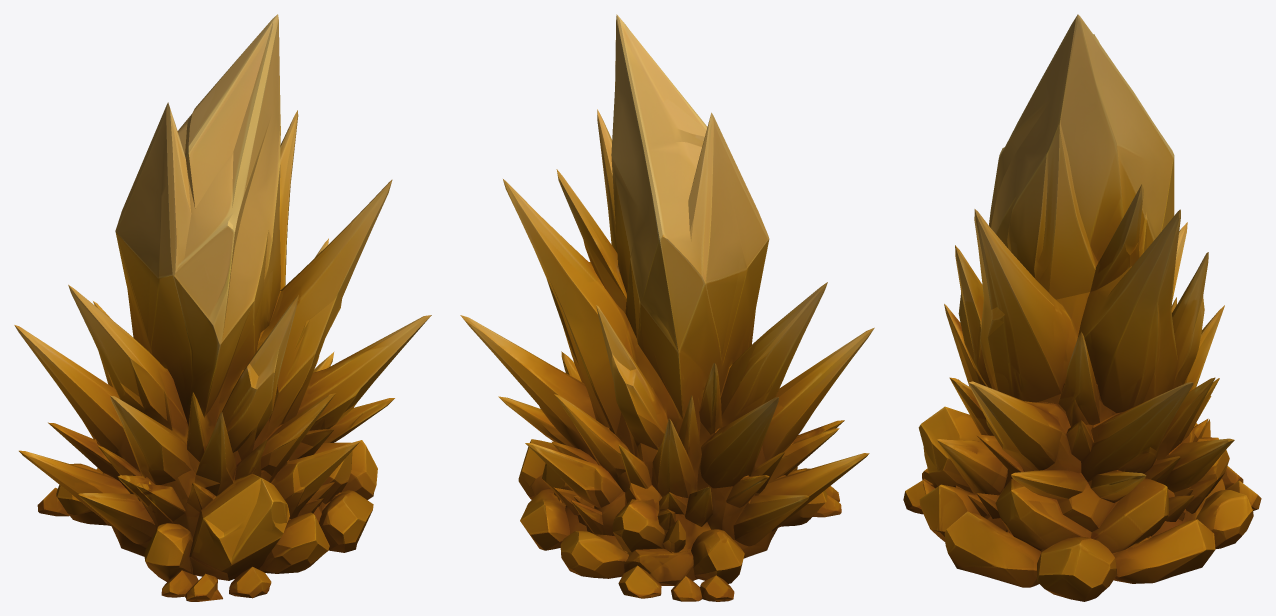
Rendered from SM_Ore25.fbx.
3 renders of one model, left to right at view 1: azimuth 30°, elevation 25°; view 2: azimuth 150°, elevation 25°; view 3: azimuth 270°, elevation 25°, orthographic. The views are drawn at different scales.
Parts seen in each view (by area): view 1: Ore25; view 2: Ore25; view 3: Ore25.
Boxes of the visible parts, x1,y1,x2,y2 form: Ore25: (14, 14, 431, 601); Ore25: (460, 14, 874, 601); Ore25: (903, 14, 1261, 601).
Bounding box in the file's own units: 177 × 256 × 153.
Materials: 1 (1 with a texture image).
